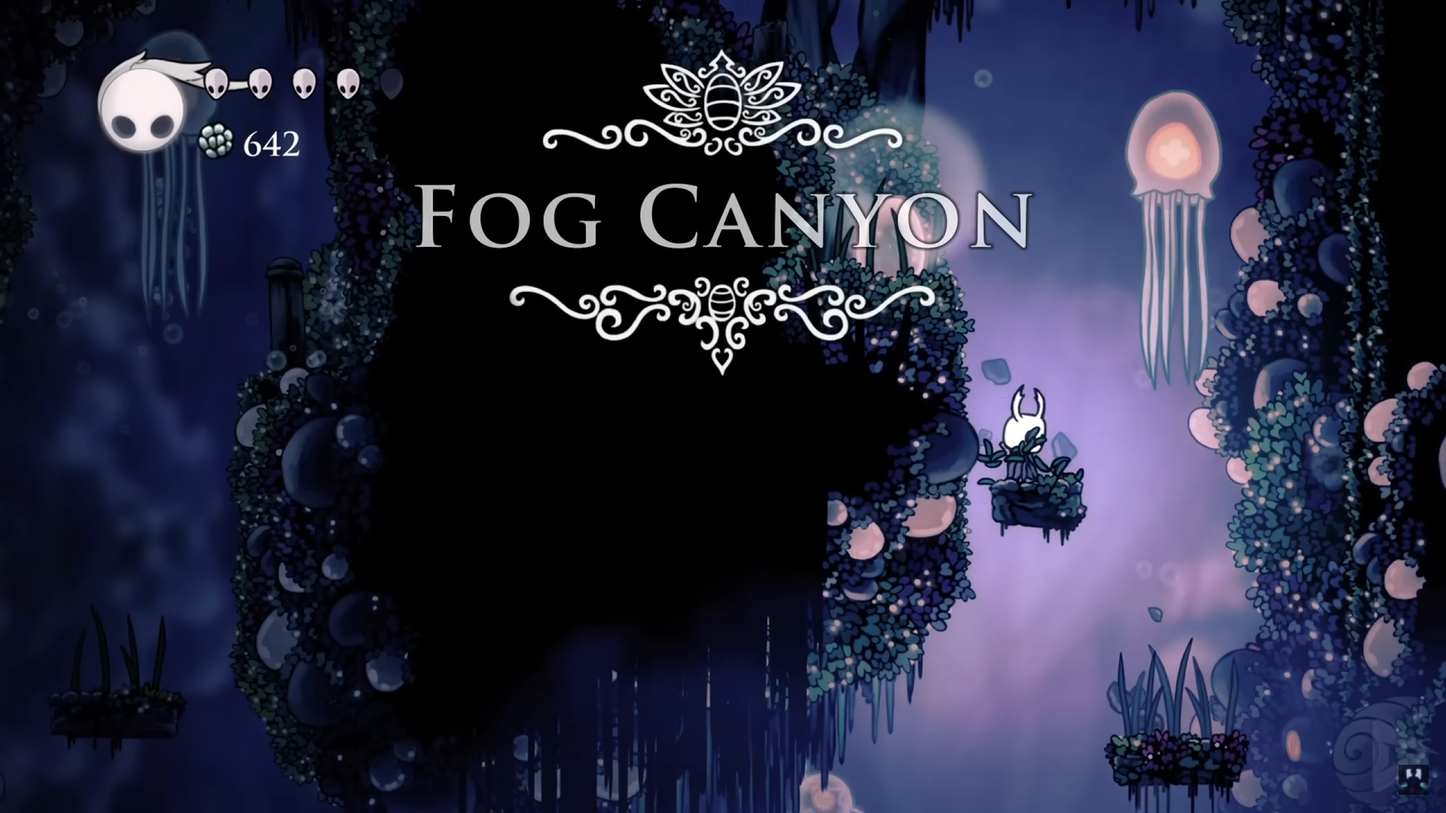HK: (993, 388, 1056, 486)
